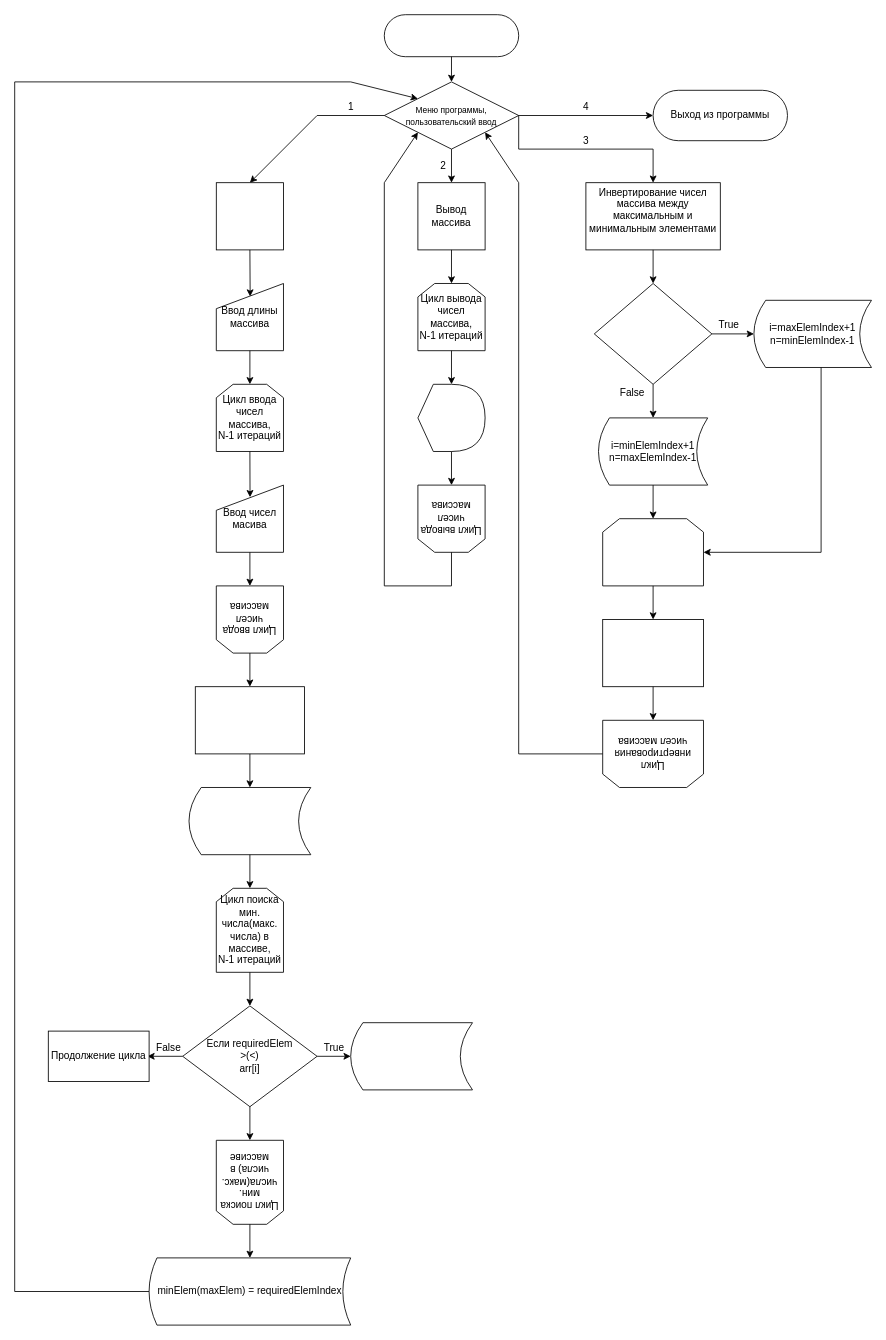
Image size: 886x1340. Some labels were removed from this diagram. The centre of each missing label's shape, as x and y in pixels:
"requiredElem = arr[0] requiredElemIndex=0" belongs at [249,821].
"requiredElem = arr[i] requiredElemIndex=i" belongs at [411,1056].
"Вывод чисел массива" belongs at [451,417].
"Если minElemIndex > maxElemIndex" belongs at [652,333].
"Инвертирование: buffer=arr[i] arr[i]=arr[n] arr[n]=buffer i++, n--" belongs at [653,653].
"Нахождение минимального (максимального) числа массива" belongs at [249,720].
"Начало программы" belongs at [451,35].
"Создание массива" belongs at [249,216].
"Цикл инвертирования чисел массива, пока n>i" belongs at [653,552].
